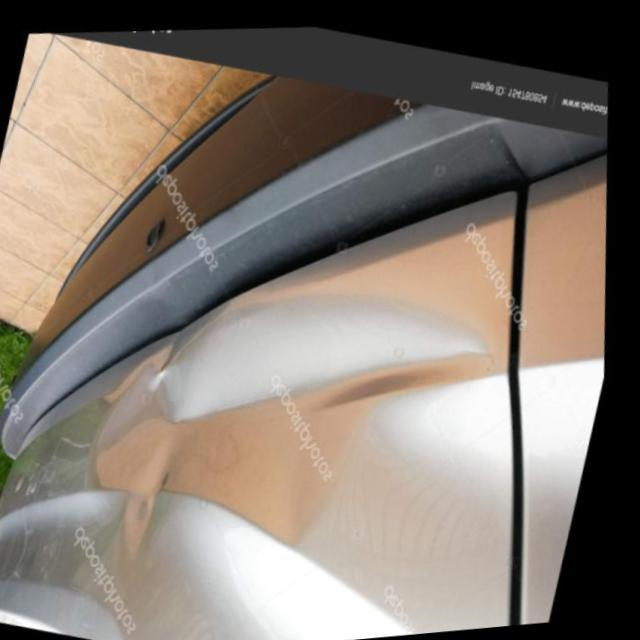Dent: (64, 319, 263, 568)
